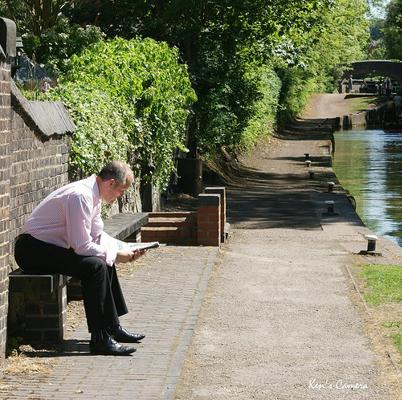person: (14, 162, 145, 361)
